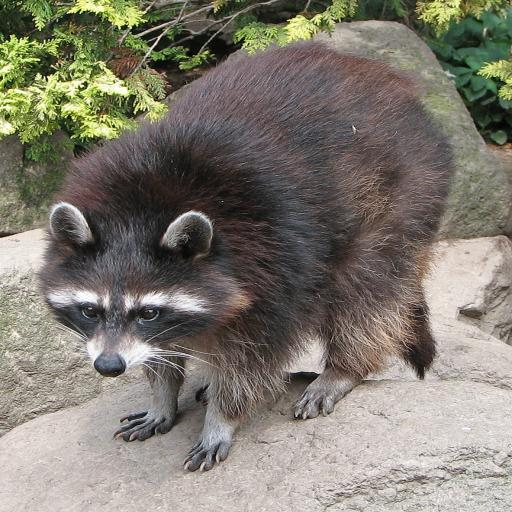raccoon: (41, 43, 451, 470)
